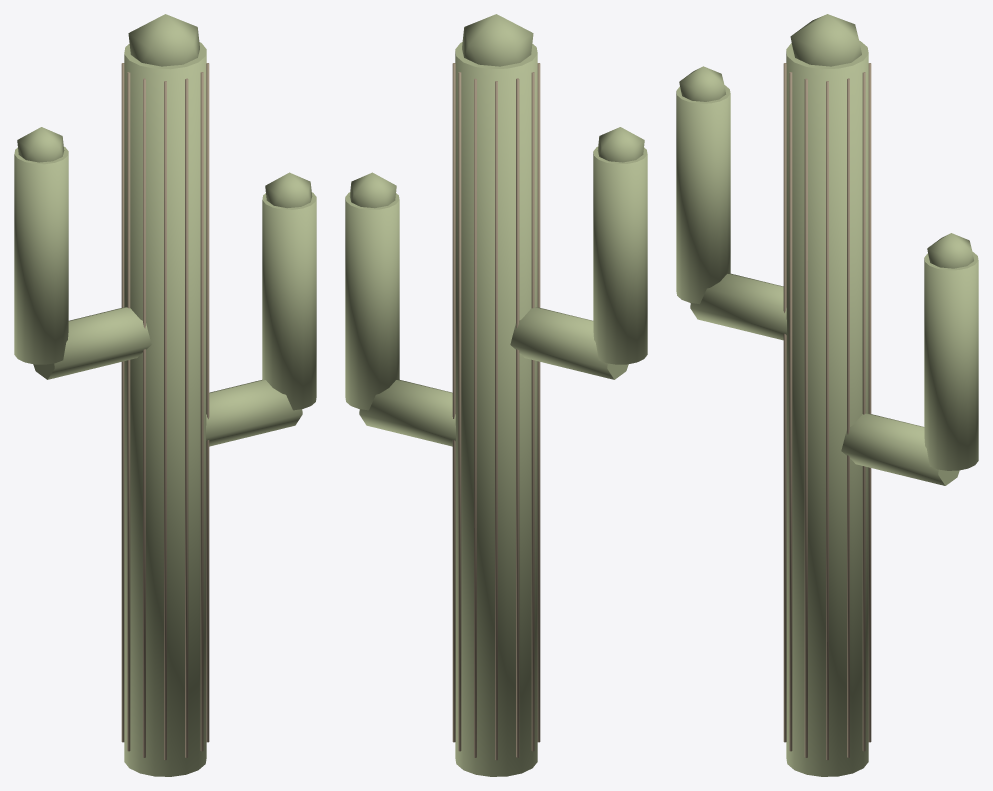
The model's file is arizona-saguaro_lod0.glb.
3 renders of one model, left to right at view 1: azimuth 30°, elevation 25°; view 2: azimuth 150°, elevation 25°; view 3: azimuth 330°, elevation 25°, orthographic.
Visible parts, largest first — view 1: RF_CactusStem, RF_CactusUpright.001, RF_CactusUpright, RF_CactusArm.001, RF_CactusArm, RF_CactusTip, RF_CactusRib.011, RF_CactusRib.010, RF_CactusRib, RF_CactusRib.007, RF_CactusRib.006, RF_CactusRib.009 (+3 smaller); view 2: RF_CactusStem, RF_CactusUpright.001, RF_CactusUpright, RF_CactusArm.001, RF_CactusArm, RF_CactusTip, RF_CactusRib.003, RF_CactusRib.002, RF_CactusRib.006, RF_CactusRib.007, RF_CactusRib.008, RF_CactusRib.005 (+3 smaller); view 3: RF_CactusStem, RF_CactusUpright, RF_CactusUpright.001, RF_CactusArm, RF_CactusArm.001, RF_CactusTip, RF_CactusRib.009, RF_CactusRib.010, RF_CactusRib.008, RF_CactusRib.001, RF_CactusRib.002, RF_CactusRib.011 (+3 smaller).
Boxes of the visible parts, left/top/right/bottom form: RF_CactusStem: left=124, top=42, right=206, bottom=776; RF_CactusUpright.001: left=14, top=146, right=68, bottom=364; RF_CactusUpright: left=262, top=192, right=316, bottom=410; RF_CactusArm.001: left=33, top=307, right=151, bottom=379; RF_CactusArm: left=206, top=380, right=302, bottom=446; RF_CactusTip: left=128, top=14, right=199, bottom=66; RF_CactusRib.011: left=200, top=72, right=203, bottom=751; RF_CactusRib.010: left=185, top=78, right=188, bottom=757; RF_CactusRib: left=206, top=63, right=209, bottom=742; RF_CactusRib.007: left=127, top=72, right=130, bottom=751; RF_CactusRib.006: left=121, top=63, right=124, bottom=742; RF_CactusRib.009: left=164, top=81, right=166, bottom=760; RF_CactusStem: left=455, top=42, right=537, bottom=776; RF_CactusUpright.001: left=593, top=146, right=647, bottom=364; RF_CactusUpright: left=345, top=192, right=399, bottom=410; RF_CactusArm.001: left=510, top=307, right=628, bottom=379; RF_CactusArm: left=359, top=380, right=455, bottom=446; RF_CactusTip: left=462, top=14, right=533, bottom=66; RF_CactusRib.003: left=458, top=72, right=461, bottom=751; RF_CactusRib.002: left=452, top=63, right=455, bottom=742; RF_CactusRib.006: left=516, top=78, right=519, bottom=757; RF_CactusRib.007: left=531, top=72, right=534, bottom=751; RF_CactusRib.008: left=537, top=63, right=540, bottom=742; RF_CactusRib.005: left=495, top=81, right=497, bottom=760; RF_CactusStem: left=786, top=40, right=868, bottom=776; RF_CactusUpright: left=924, top=251, right=978, bottom=470; RF_CactusUpright.001: left=676, top=85, right=730, bottom=304; RF_CactusArm: left=841, top=413, right=959, bottom=485; RF_CactusArm.001: left=690, top=273, right=786, bottom=340; RF_CactusTip: left=790, top=14, right=861, bottom=66; RF_CactusRib.009: left=789, top=72, right=792, bottom=751; RF_CactusRib.010: left=804, top=78, right=807, bottom=757; RF_CactusRib.008: left=783, top=63, right=786, bottom=742; RF_CactusRib.001: left=862, top=72, right=865, bottom=751; RF_CactusRib.002: left=868, top=63, right=871, bottom=742; RF_CactusRib.011: left=826, top=81, right=828, bottom=760.
Bounding box in the file's own units: 2.62 × 6.32 × 0.6728.
